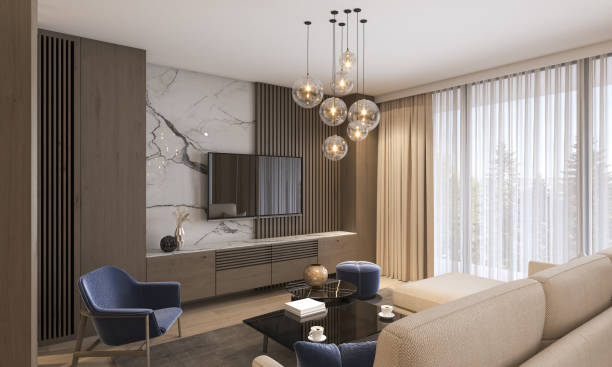TV: (205, 149, 304, 222)
TV stand: (144, 230, 358, 304)
chair: (71, 263, 184, 367)
sofa: (249, 243, 612, 367)
table: (242, 296, 405, 354), (283, 269, 358, 300)
